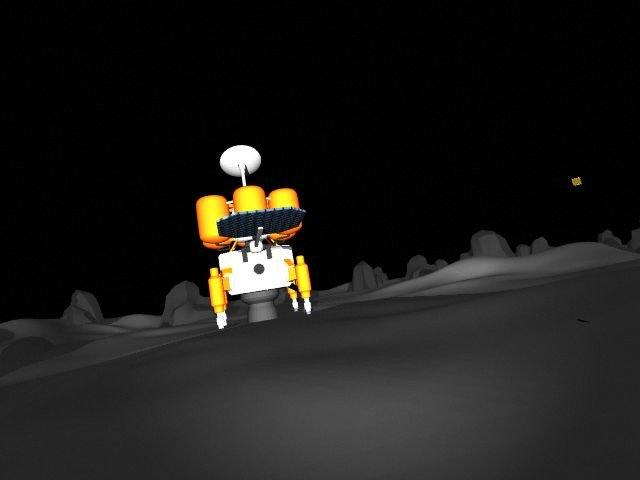homebase: (194, 143, 313, 331)
